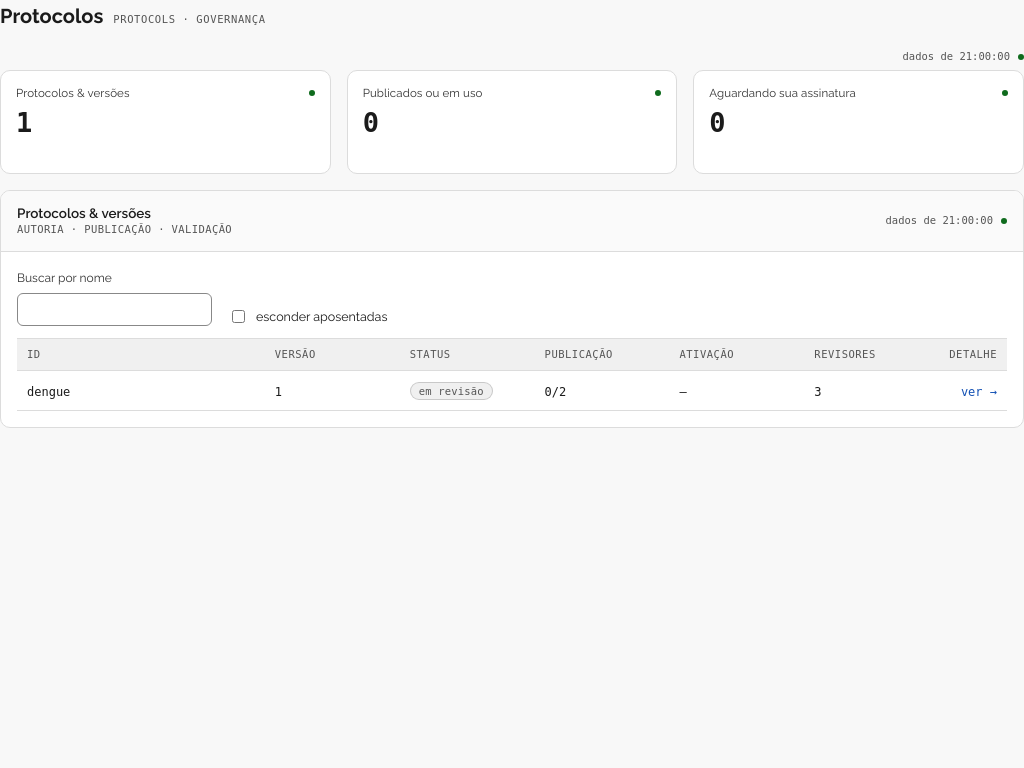
it: Protocols › publisher vê Publicar bloqueado pelo que falta
Click the text "dengue" at (49, 392), box [27,385,70,399]
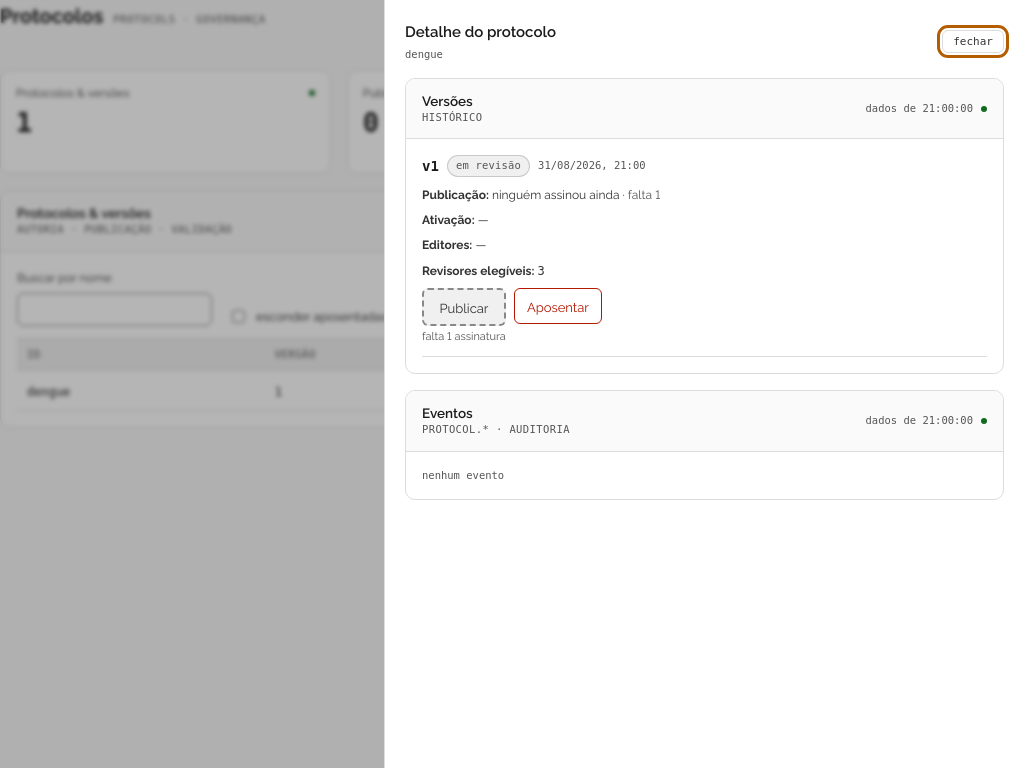
Expected: the button "Publicar" is disabled, [422,288,506,326]
Expected: the text "falta 1 assinatura" is shown, [422,328,506,344]
